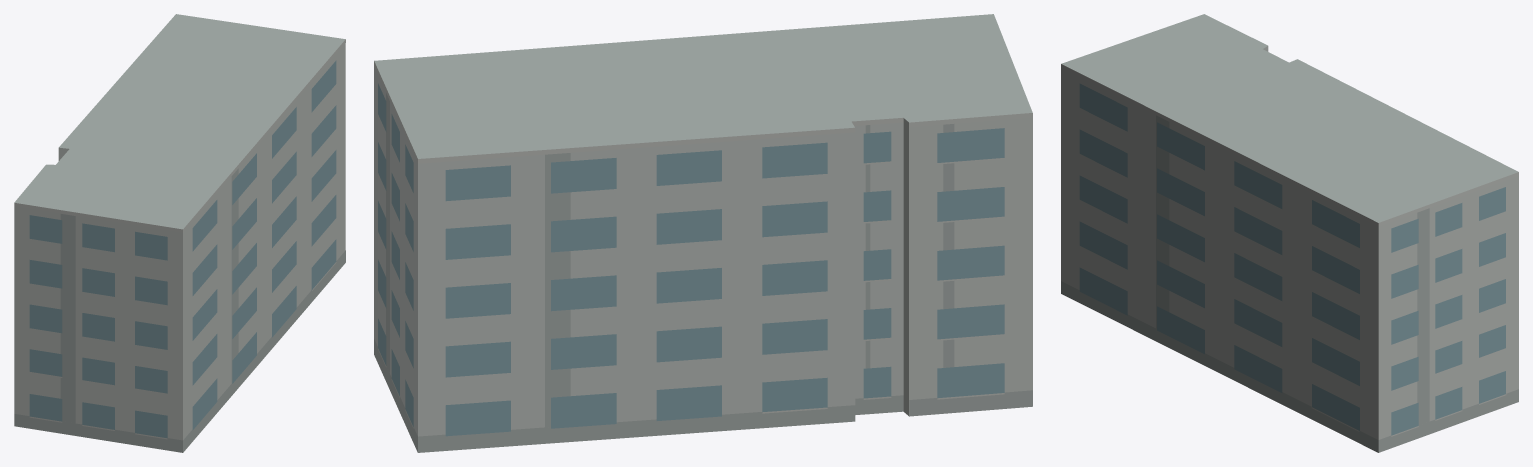
The model's file is survey-upis-32681271.glb.
3 views of the same model, side by side, from view 1: azimuth 30°, elevation 25°; view 2: azimuth 150°, elevation 25°; view 3: azimuth 270°, elevation 25° (orthographic). The views are drawn at different scales.
Visible parts, largest first — view 1: survey-upis-32681271.tmp; view 2: survey-upis-32681271.tmp; view 3: survey-upis-32681271.tmp.
Part boxes in pixels (box(x1,y1,x2,y2)): survey-upis-32681271.tmp: box(14, 14, 345, 452); survey-upis-32681271.tmp: box(374, 14, 1032, 452); survey-upis-32681271.tmp: box(1061, 14, 1518, 452).
Size of the model in its own units: 29.19 by 14.97 by 27.02.
